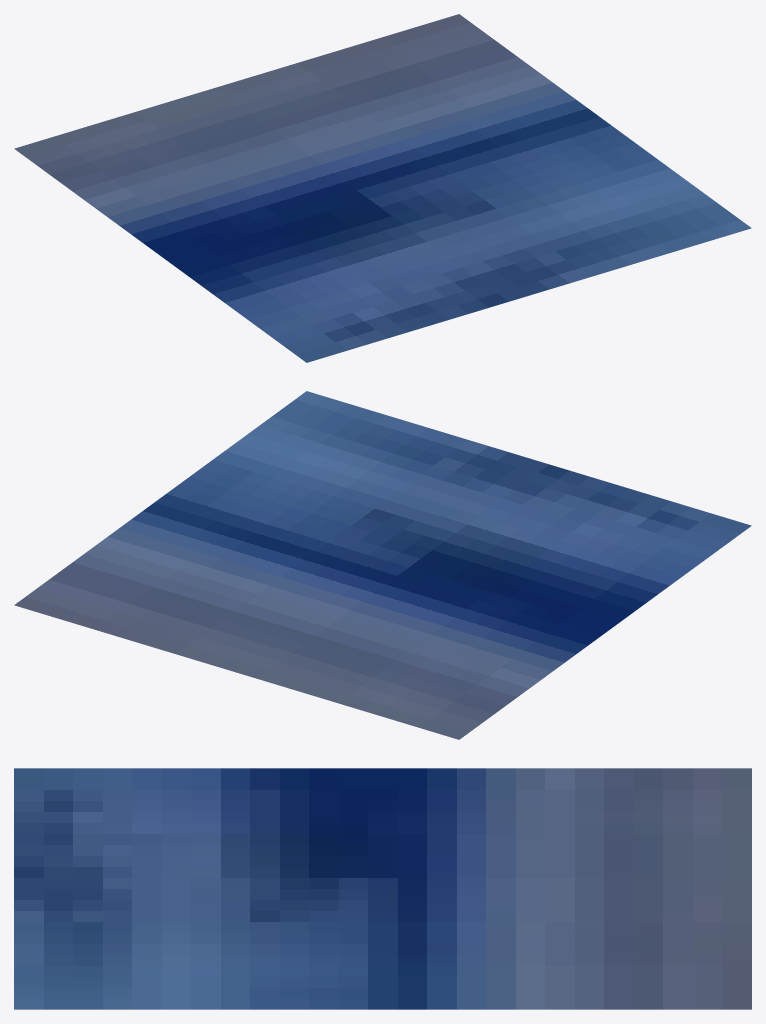
Rendered from sign_5.glb.
The picture shows the model from 3 angles, top to bottom: view 1: azimuth 30°, elevation 25°; view 2: azimuth 150°, elevation 25°; view 3: azimuth 270°, elevation 25°; orthographic projection. The views are drawn at different scales.
Visible parts, largest first — view 1: sign_5; view 2: sign_5; view 3: sign_5.
Part boxes in pixels (<box>): sign_5: <box>14,14,751,362</box>; sign_5: <box>14,391,751,739</box>; sign_5: <box>14,768,751,1009</box>.
Size of the model in its own units: 0.00836 by 0.000467 by 0.00952.
Materials: 1 (1 with a texture image).
